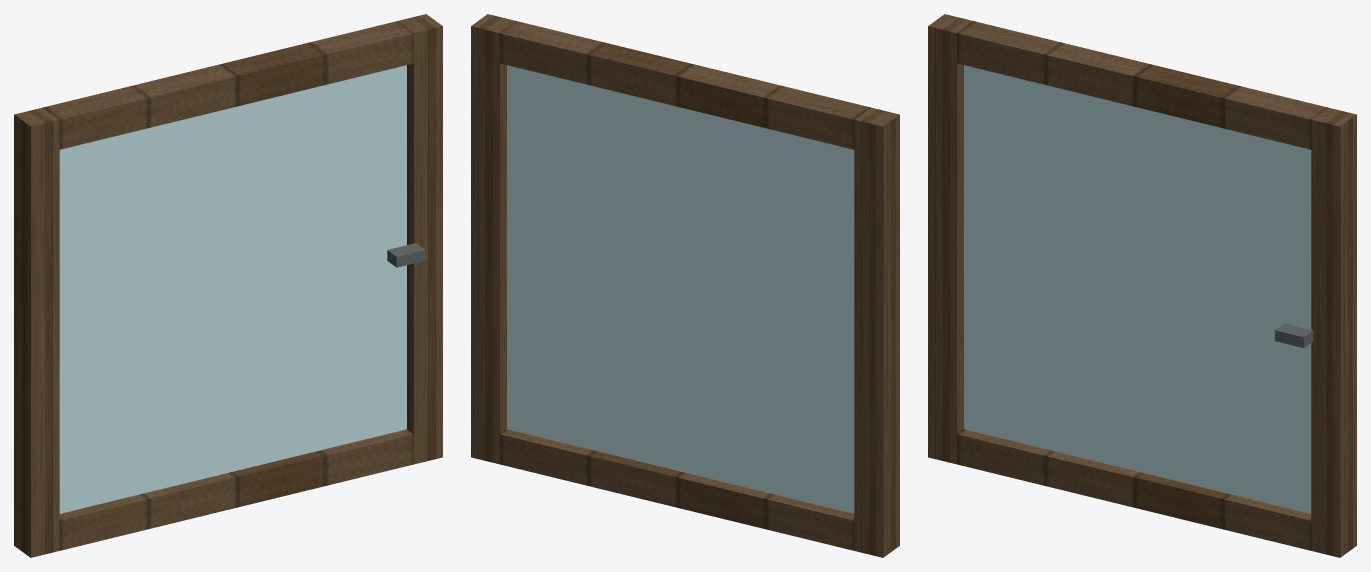
The model's file is WindowPanel.glb.
3 views of the same model, side by side, from view 1: azimuth 30°, elevation 25°; view 2: azimuth 150°, elevation 25°; view 3: azimuth 330°, elevation 25° (orthographic).
Visible parts, largest first — view 1: TransparentGlass, Wood, Handle; view 2: TransparentGlass, Wood; view 3: TransparentGlass, Wood, Handle.
Part boxes in pixels (<box>): TransparentGlass: <box>59,65,406,513</box>; Wood: <box>14,14,442,557</box>; Handle: <box>387,243,425,267</box>; TransparentGlass: <box>507,65,854,513</box>; Wood: <box>471,14,899,557</box>; TransparentGlass: <box>964,65,1311,513</box>; Wood: <box>928,14,1356,557</box>; Handle: <box>1275,323,1313,347</box>.
Size of the model in its own units: 1 by 1 by 0.11.
Materials: 3 (1 with a texture image).
